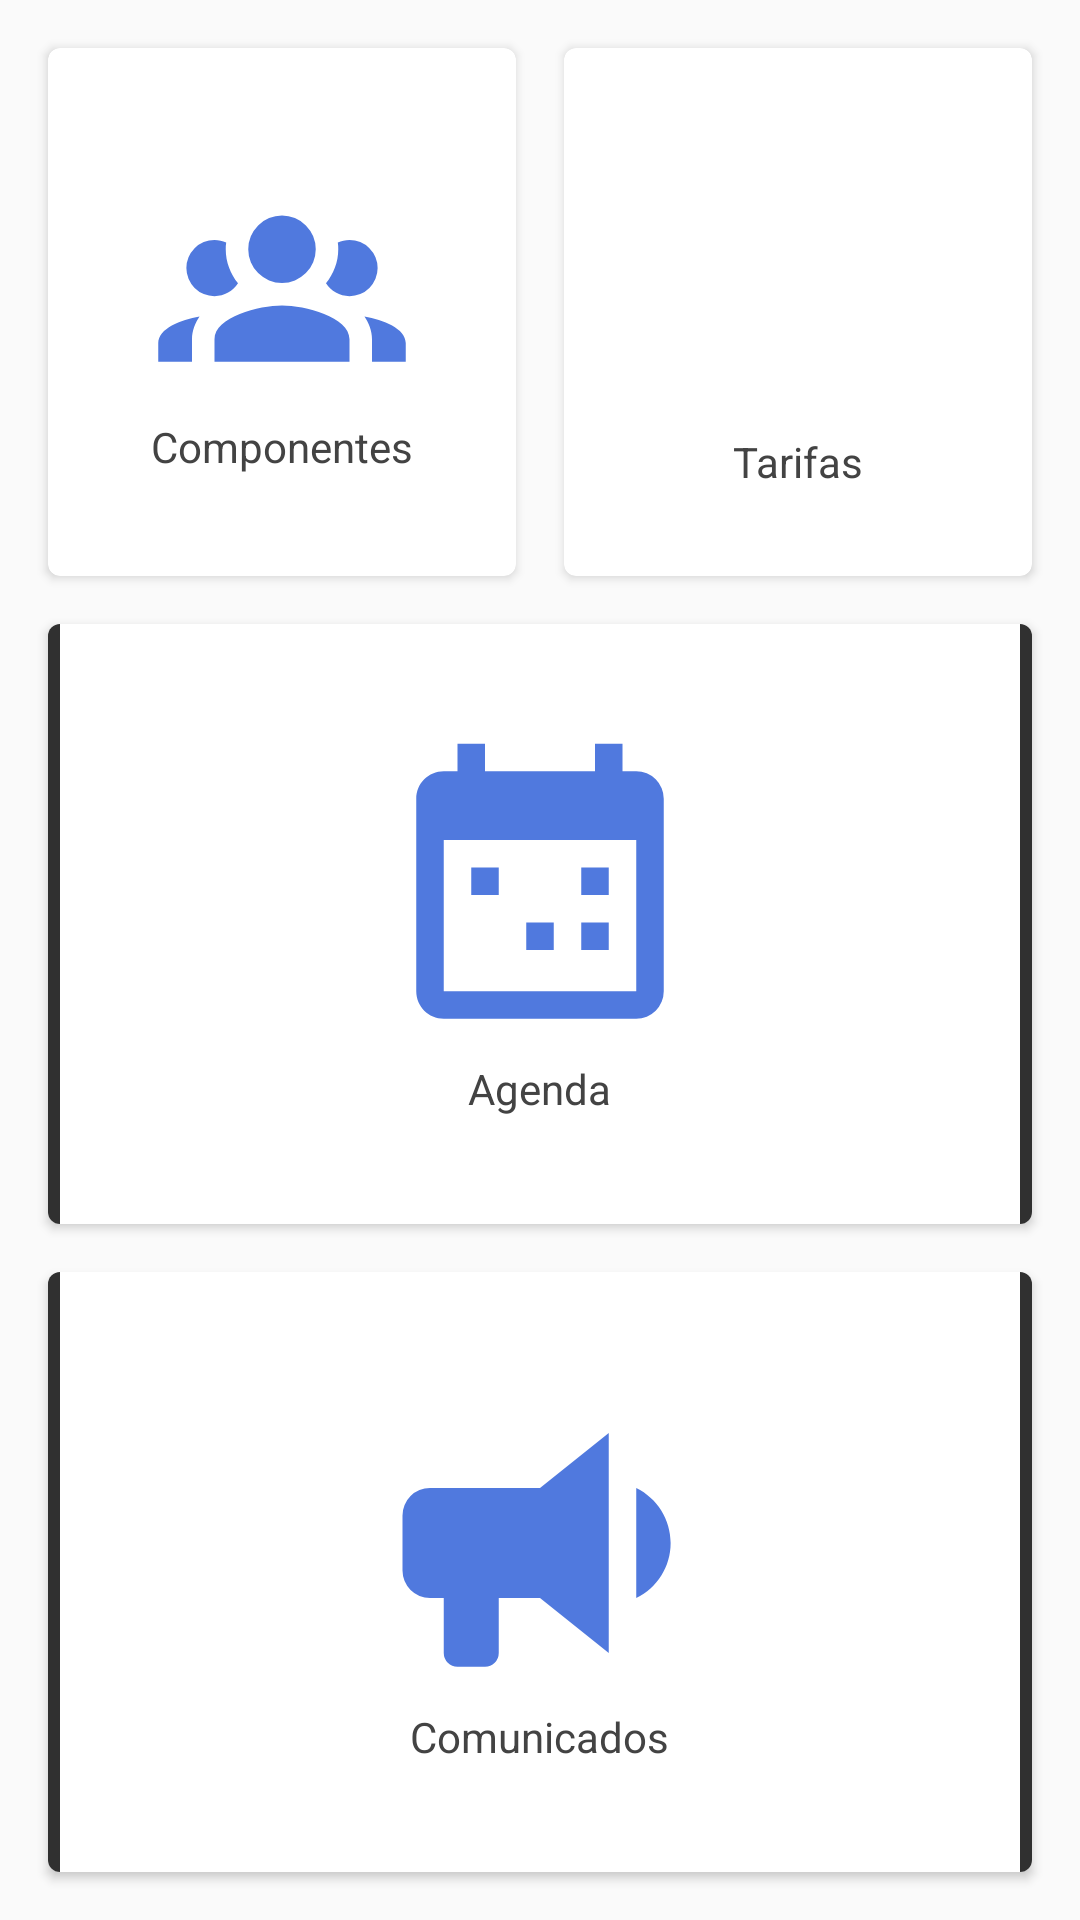

Named icons in this screenshot (1080w x 1920h) and their bounding boxes, (x1, y1, x2, y2):
account group: (158, 215, 406, 362)
bullhorn: (402, 1433, 671, 1667)
calendar multiselect: (416, 743, 664, 1019)
